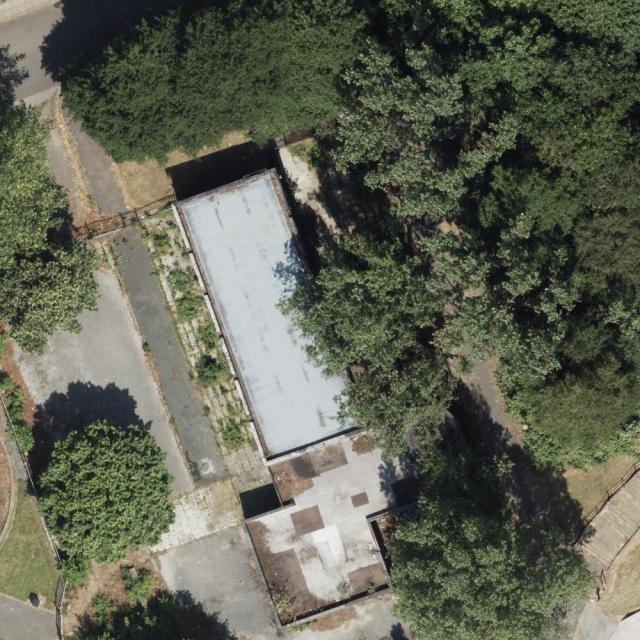roof: (173, 172, 373, 467)
